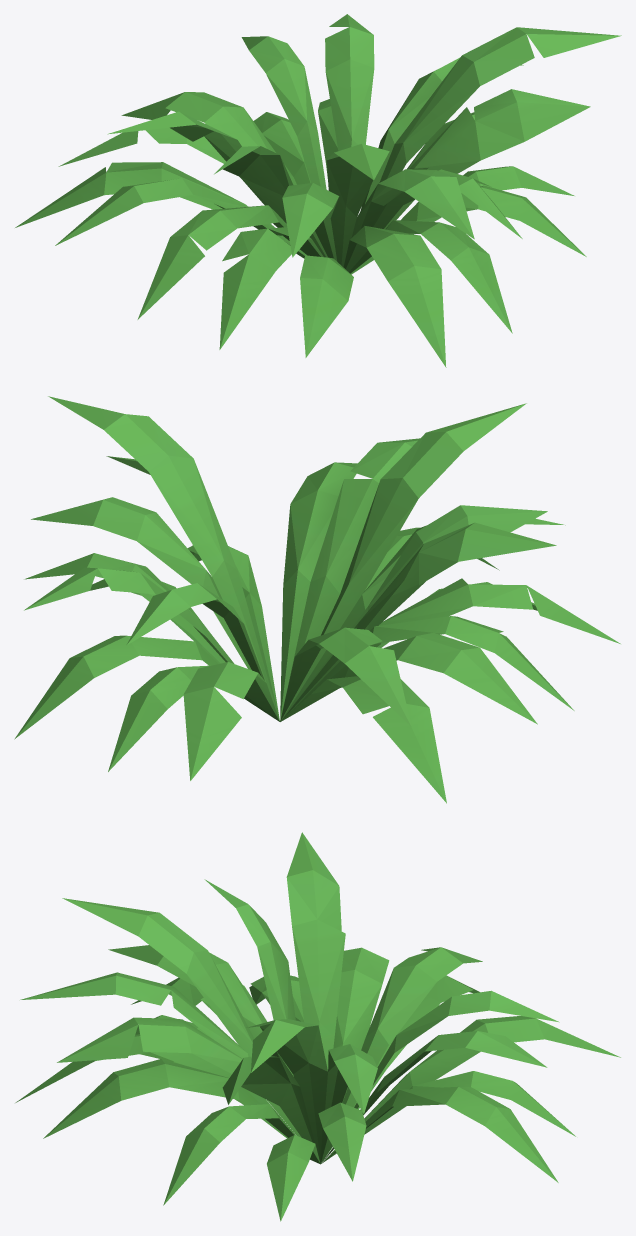
File: bush_fern.glb
3 views of the same model, one above another, from view 1: azimuth 30°, elevation 25°; view 2: azimuth 150°, elevation 25°; view 3: azimuth 270°, elevation 25° (orthographic). The views are drawn at different scales.
Parts seen in each view (by area): view 1: bush_fern; view 2: bush_fern; view 3: bush_fern.
Part boxes in pixels (left/top/right/bottom): bush_fern: left=15, top=14, right=621, bottom=367; bush_fern: left=14, top=396, right=620, bottom=803; bush_fern: left=15, top=832, right=620, bottom=1221.
Size of the model in its own units: 1.42 by 0.6 by 1.47.
1 material, 1 textured.
